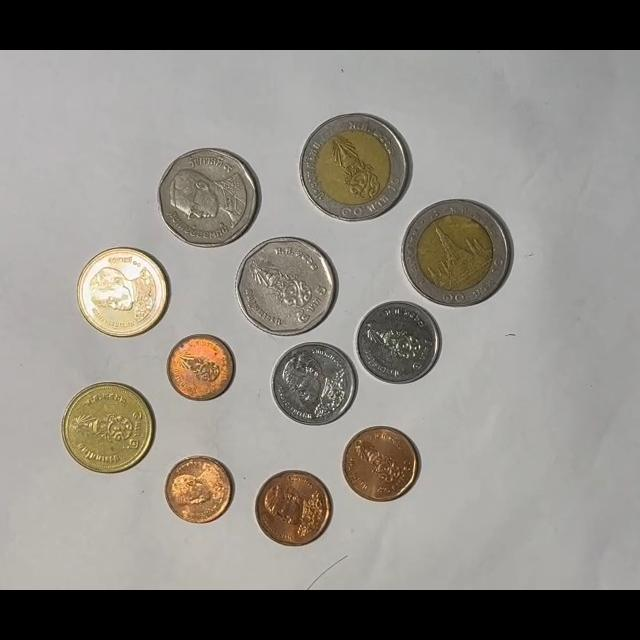1-baht: (271, 341, 357, 427), (355, 300, 442, 385)
10-baht: (299, 113, 412, 223), (401, 198, 511, 307)
2-baht: (61, 382, 155, 474), (76, 247, 168, 339)
25-satang: (164, 455, 235, 525), (167, 334, 236, 401)
5-baht: (157, 147, 260, 248), (235, 236, 338, 337)
50-satang: (341, 426, 420, 503), (254, 470, 332, 547)
